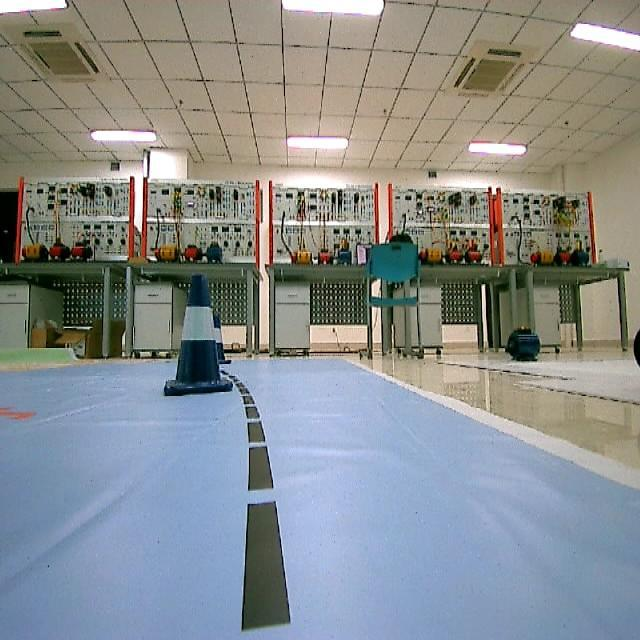obstacle: (153, 270, 234, 406)
